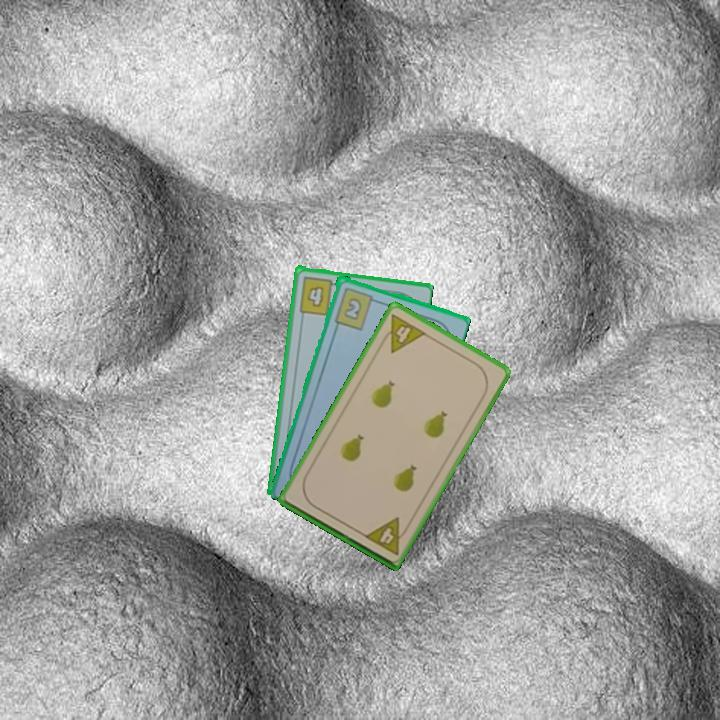2b: (330, 283, 381, 332)
4b: (295, 272, 342, 317)
4p: (376, 310, 429, 356), (360, 514, 412, 558)
